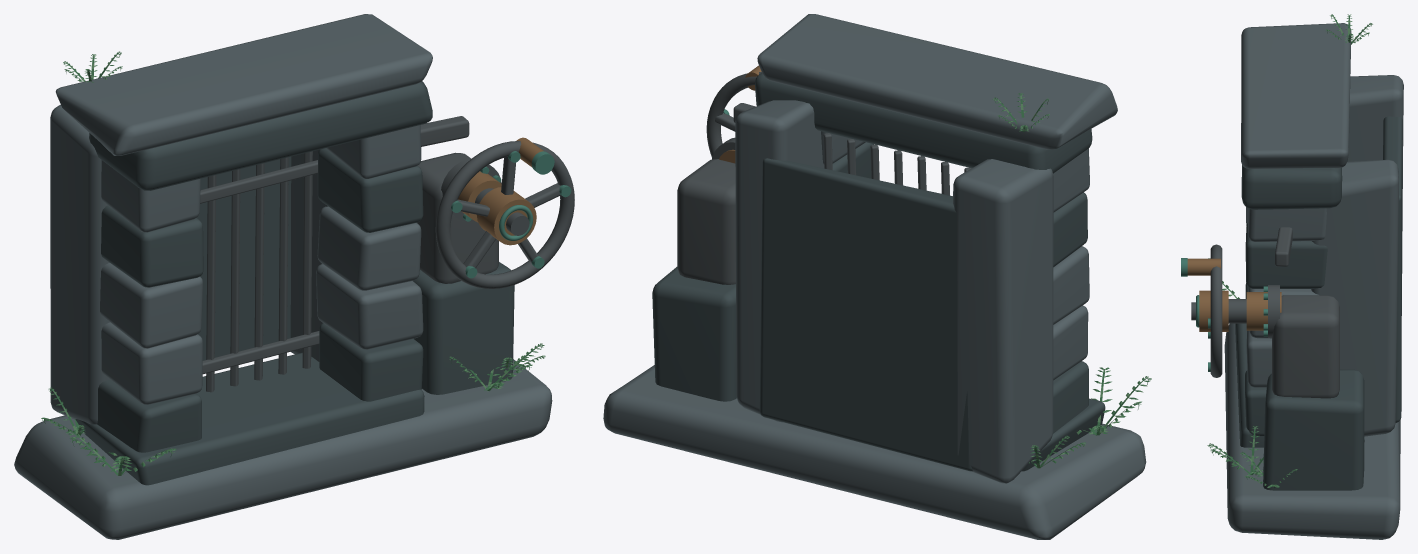
Rendered from fern_basin_handwheel.glb.
3 views of the same model, side by side, from view 1: azimuth 30°, elevation 25°; view 2: azimuth 150°, elevation 25°; view 3: azimuth 270°, elevation 25° (orthographic). The views are drawn at different scales.
Visible parts, largest first — view 1: Apron stone, Basalt cap, Damp inlet sill, Return wall left, Wet lintel, Shadow behind intake, Wheel mounting pedestal, Ashlar right 2, Ashlar left 3, Ashlar right 3, Ashlar right 4, Ashlar left 4 (+19 smaller); view 2: Shadow behind intake, Apron stone, Return wall left, Basalt cap, Return wall right, Wet lintel, Wheel mounting pedestal, Wheel valve body, Ashlar left 3, Ashlar left 2, Ashlar left 4, Ashlar left 1 (+5 smaller); view 3: Return wall right, Basalt cap, Apron stone, Wheel mounting pedestal, Wheel valve body, Wet lintel, Return wall left, Ashlar right 4, Ashlar right 5, Shadow behind intake, Cast iron wheel rim, Damp inlet sill (+10 smaller).
Boxes of the visible parts, box(x1,y1,x2,y2) form: Apron stone: box(14, 359, 552, 539); Basalt cap: box(55, 14, 432, 155); Damp inlet sill: box(75, 352, 424, 485); Return wall left: box(50, 104, 110, 424); Wet lintel: box(89, 81, 432, 190); Shadow behind intake: box(196, 156, 291, 360); Wheel mounting pedestal: box(413, 262, 514, 394); Ashlar right 2: box(316, 264, 423, 349); Ashlar left 3: box(100, 263, 203, 348); Ashlar right 3: box(317, 206, 421, 290); Ashlar right 4: box(317, 148, 423, 232); Ashlar left 4: box(101, 205, 203, 287); Shadow behind intake: box(759, 158, 972, 471); Apron stone: box(603, 365, 1146, 539); Return wall left: box(953, 159, 1053, 483); Basalt cap: box(757, 14, 1117, 149); Return wall right: box(735, 100, 824, 422); Wet lintel: box(755, 72, 1092, 173); Wheel mounting pedestal: box(652, 267, 736, 401); Wheel valve body: box(677, 159, 735, 284); Ashlar left 3: box(1053, 246, 1089, 324); Ashlar left 2: box(1053, 305, 1088, 380); Ashlar left 4: box(1053, 192, 1087, 267); Ashlar left 1: box(1053, 361, 1088, 433); Return wall right: box(1311, 159, 1398, 436); Basalt cap: box(1241, 23, 1351, 168); Apron stone: box(1224, 323, 1400, 539); Wheel mounting pedestal: box(1263, 369, 1364, 490); Wheel valve body: box(1272, 295, 1339, 398); Wet lintel: box(1241, 165, 1342, 209); Return wall left: box(1347, 75, 1403, 315); Ashlar right 4: box(1245, 223, 1327, 288); Ashlar right 5: box(1247, 208, 1326, 241); Shadow behind intake: box(1383, 116, 1402, 422); Cast iron wheel rim: box(1210, 244, 1222, 377); Damp inlet sill: box(1235, 323, 1364, 447).
Size of the model in its own units: 2.4 by 2.02 by 1.15.
